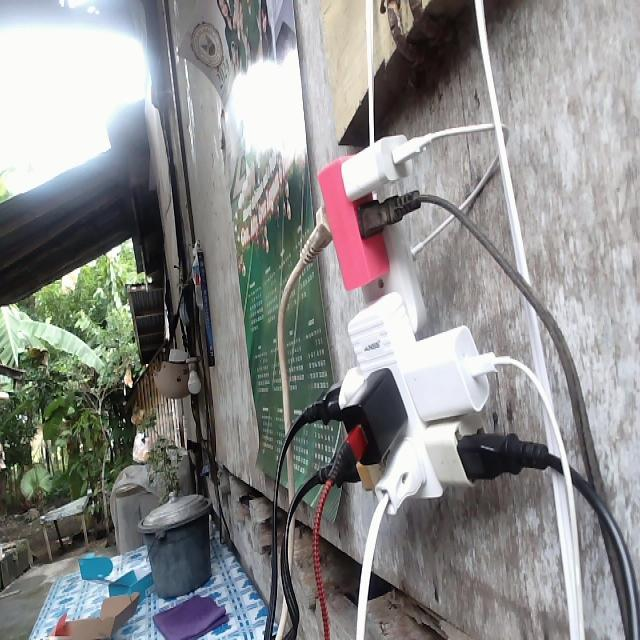-: (315, 120, 493, 519)
